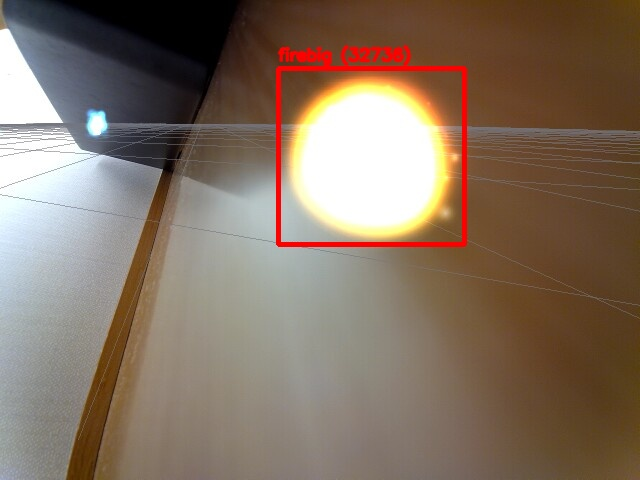firebig: (278, 68, 464, 244)
